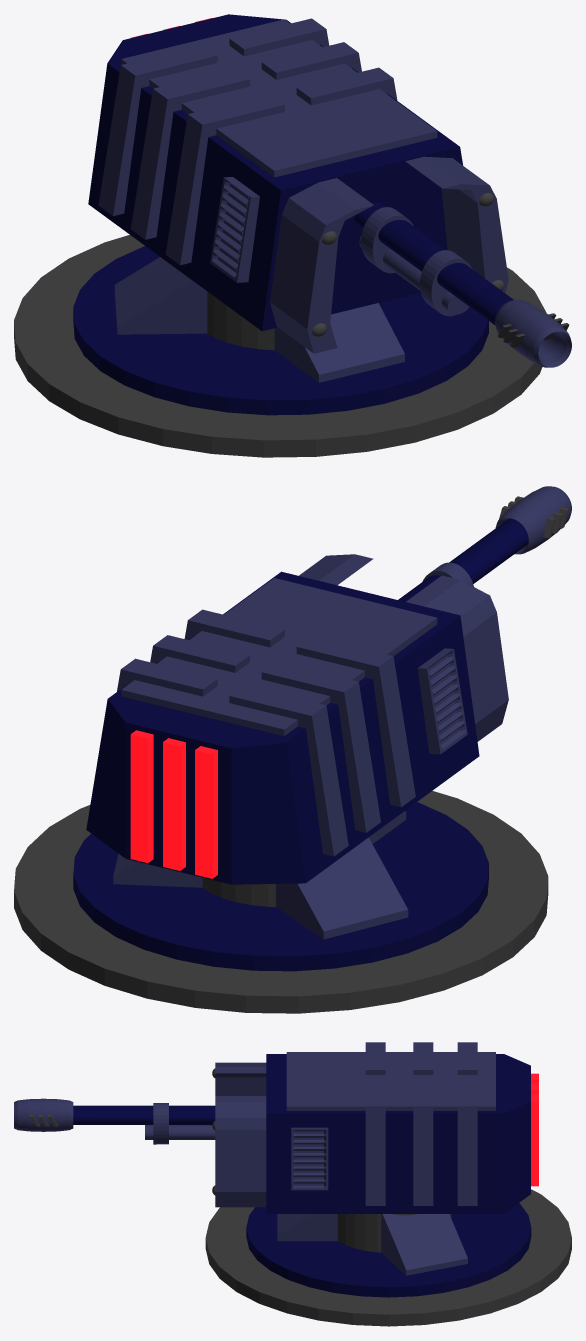
File: Turm 2.fbx
3 renders of one model, top to bottom at view 1: azimuth 30°, elevation 25°; view 2: azimuth 150°, elevation 25°; view 3: azimuth 270°, elevation 25°, orthographic. The views are drawn at different scales.
Visible parts, largest first — view 1: Cube.011, Cylinder.010; view 2: Cube.011, Cylinder.010; view 3: Cube.011, Cylinder.010.
Boxes of the visible parts, <box> form: Cube.011: <box>73,14,571,415</box>; Cylinder.010: <box>14,235,546,457</box>; Cube.011: <box>73,486,571,971</box>; Cylinder.010: <box>14,791,548,1013</box>; Cube.011: <box>14,1042,538,1297</box>; Cylinder.010: <box>205,1189,571,1326</box>.
Bounding box in the file's own units: 360 × 190 × 548.
